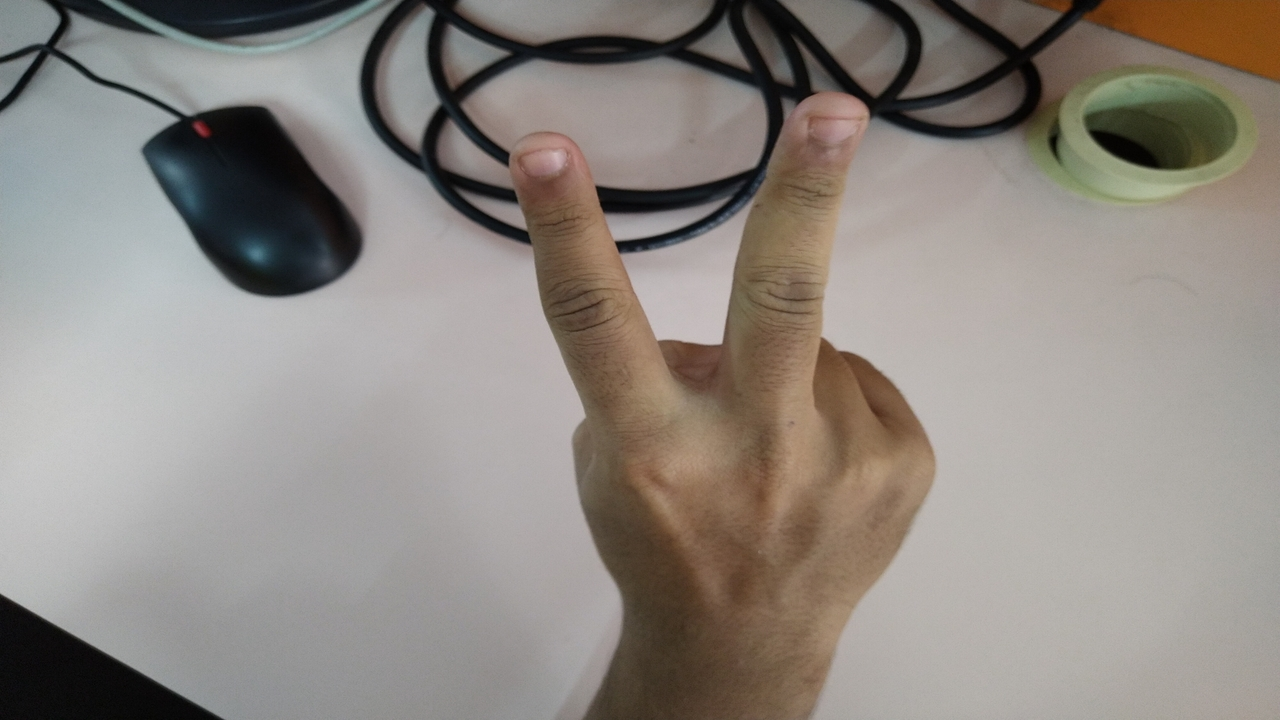fingertip: (778, 86, 878, 152), (508, 128, 590, 204)
